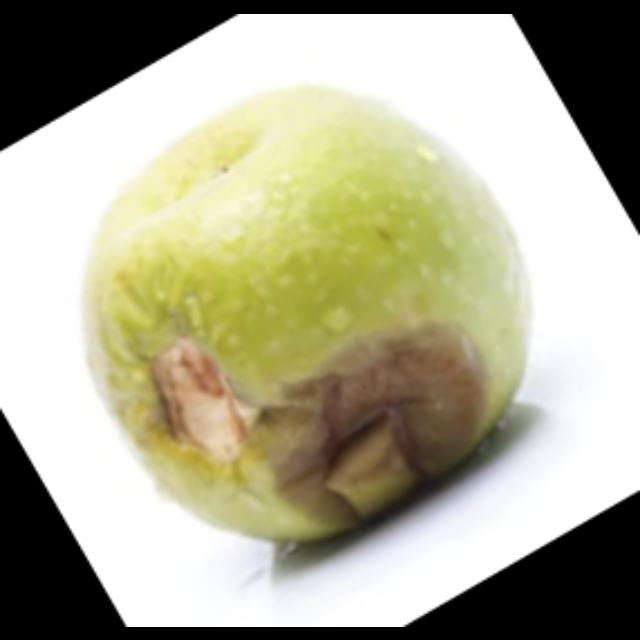Apel Tidak Segar: (67, 87, 530, 540)
